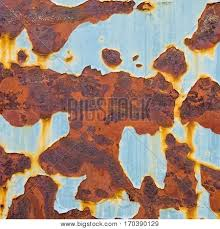rust: (3, 63, 175, 133), (61, 61, 135, 204), (2, 1, 138, 56), (155, 135, 207, 216), (184, 73, 220, 131), (12, 177, 60, 220), (187, 2, 220, 57), (1, 144, 34, 197), (150, 43, 190, 81), (98, 46, 124, 71)
